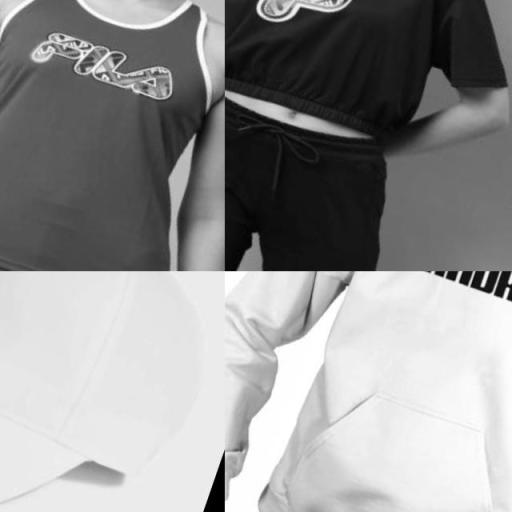Fila: (6, 0, 198, 130), (249, 0, 378, 49)
Puma: (373, 271, 512, 340)
